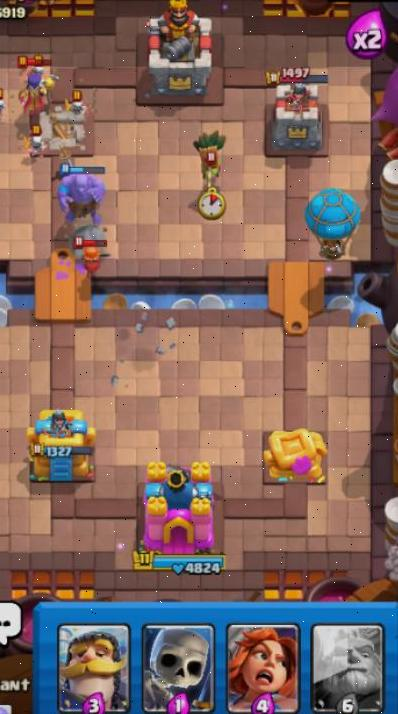enemy_archers: (0, 87, 11, 124)
enemy_dart_goblin: (189, 126, 231, 204)
enemy_skeletons: (20, 127, 50, 160), (68, 86, 90, 120)
enemy_valkyrie: (70, 234, 116, 277)
enemy_witch: (15, 56, 59, 117)
player_balloon: (299, 183, 367, 266)
player_bowler: (52, 161, 115, 228)
